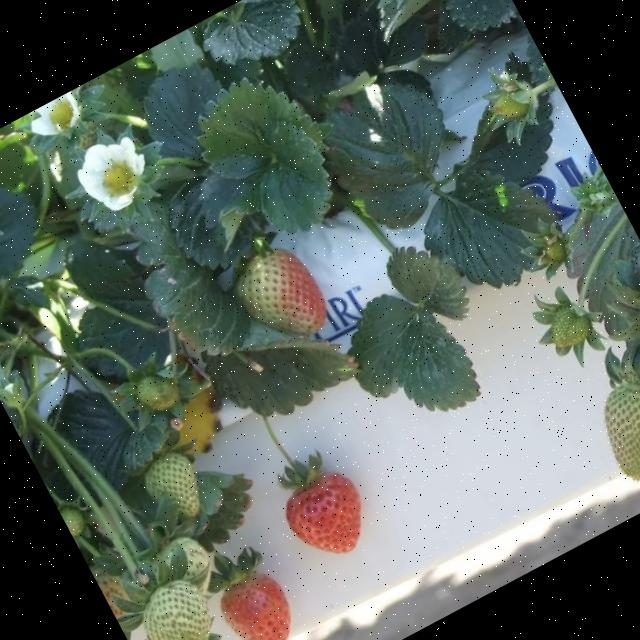Ripe Strawberry: (276, 464, 380, 570), (211, 562, 306, 640)
